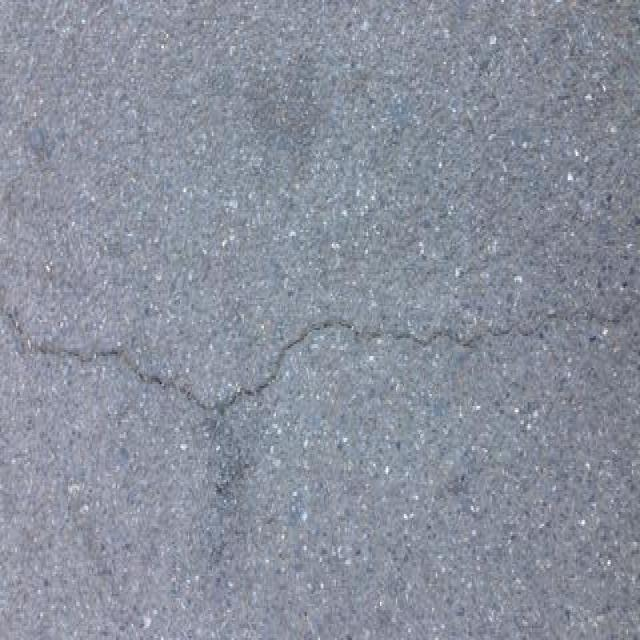Retak-Melintang: (15, 304, 626, 417)
